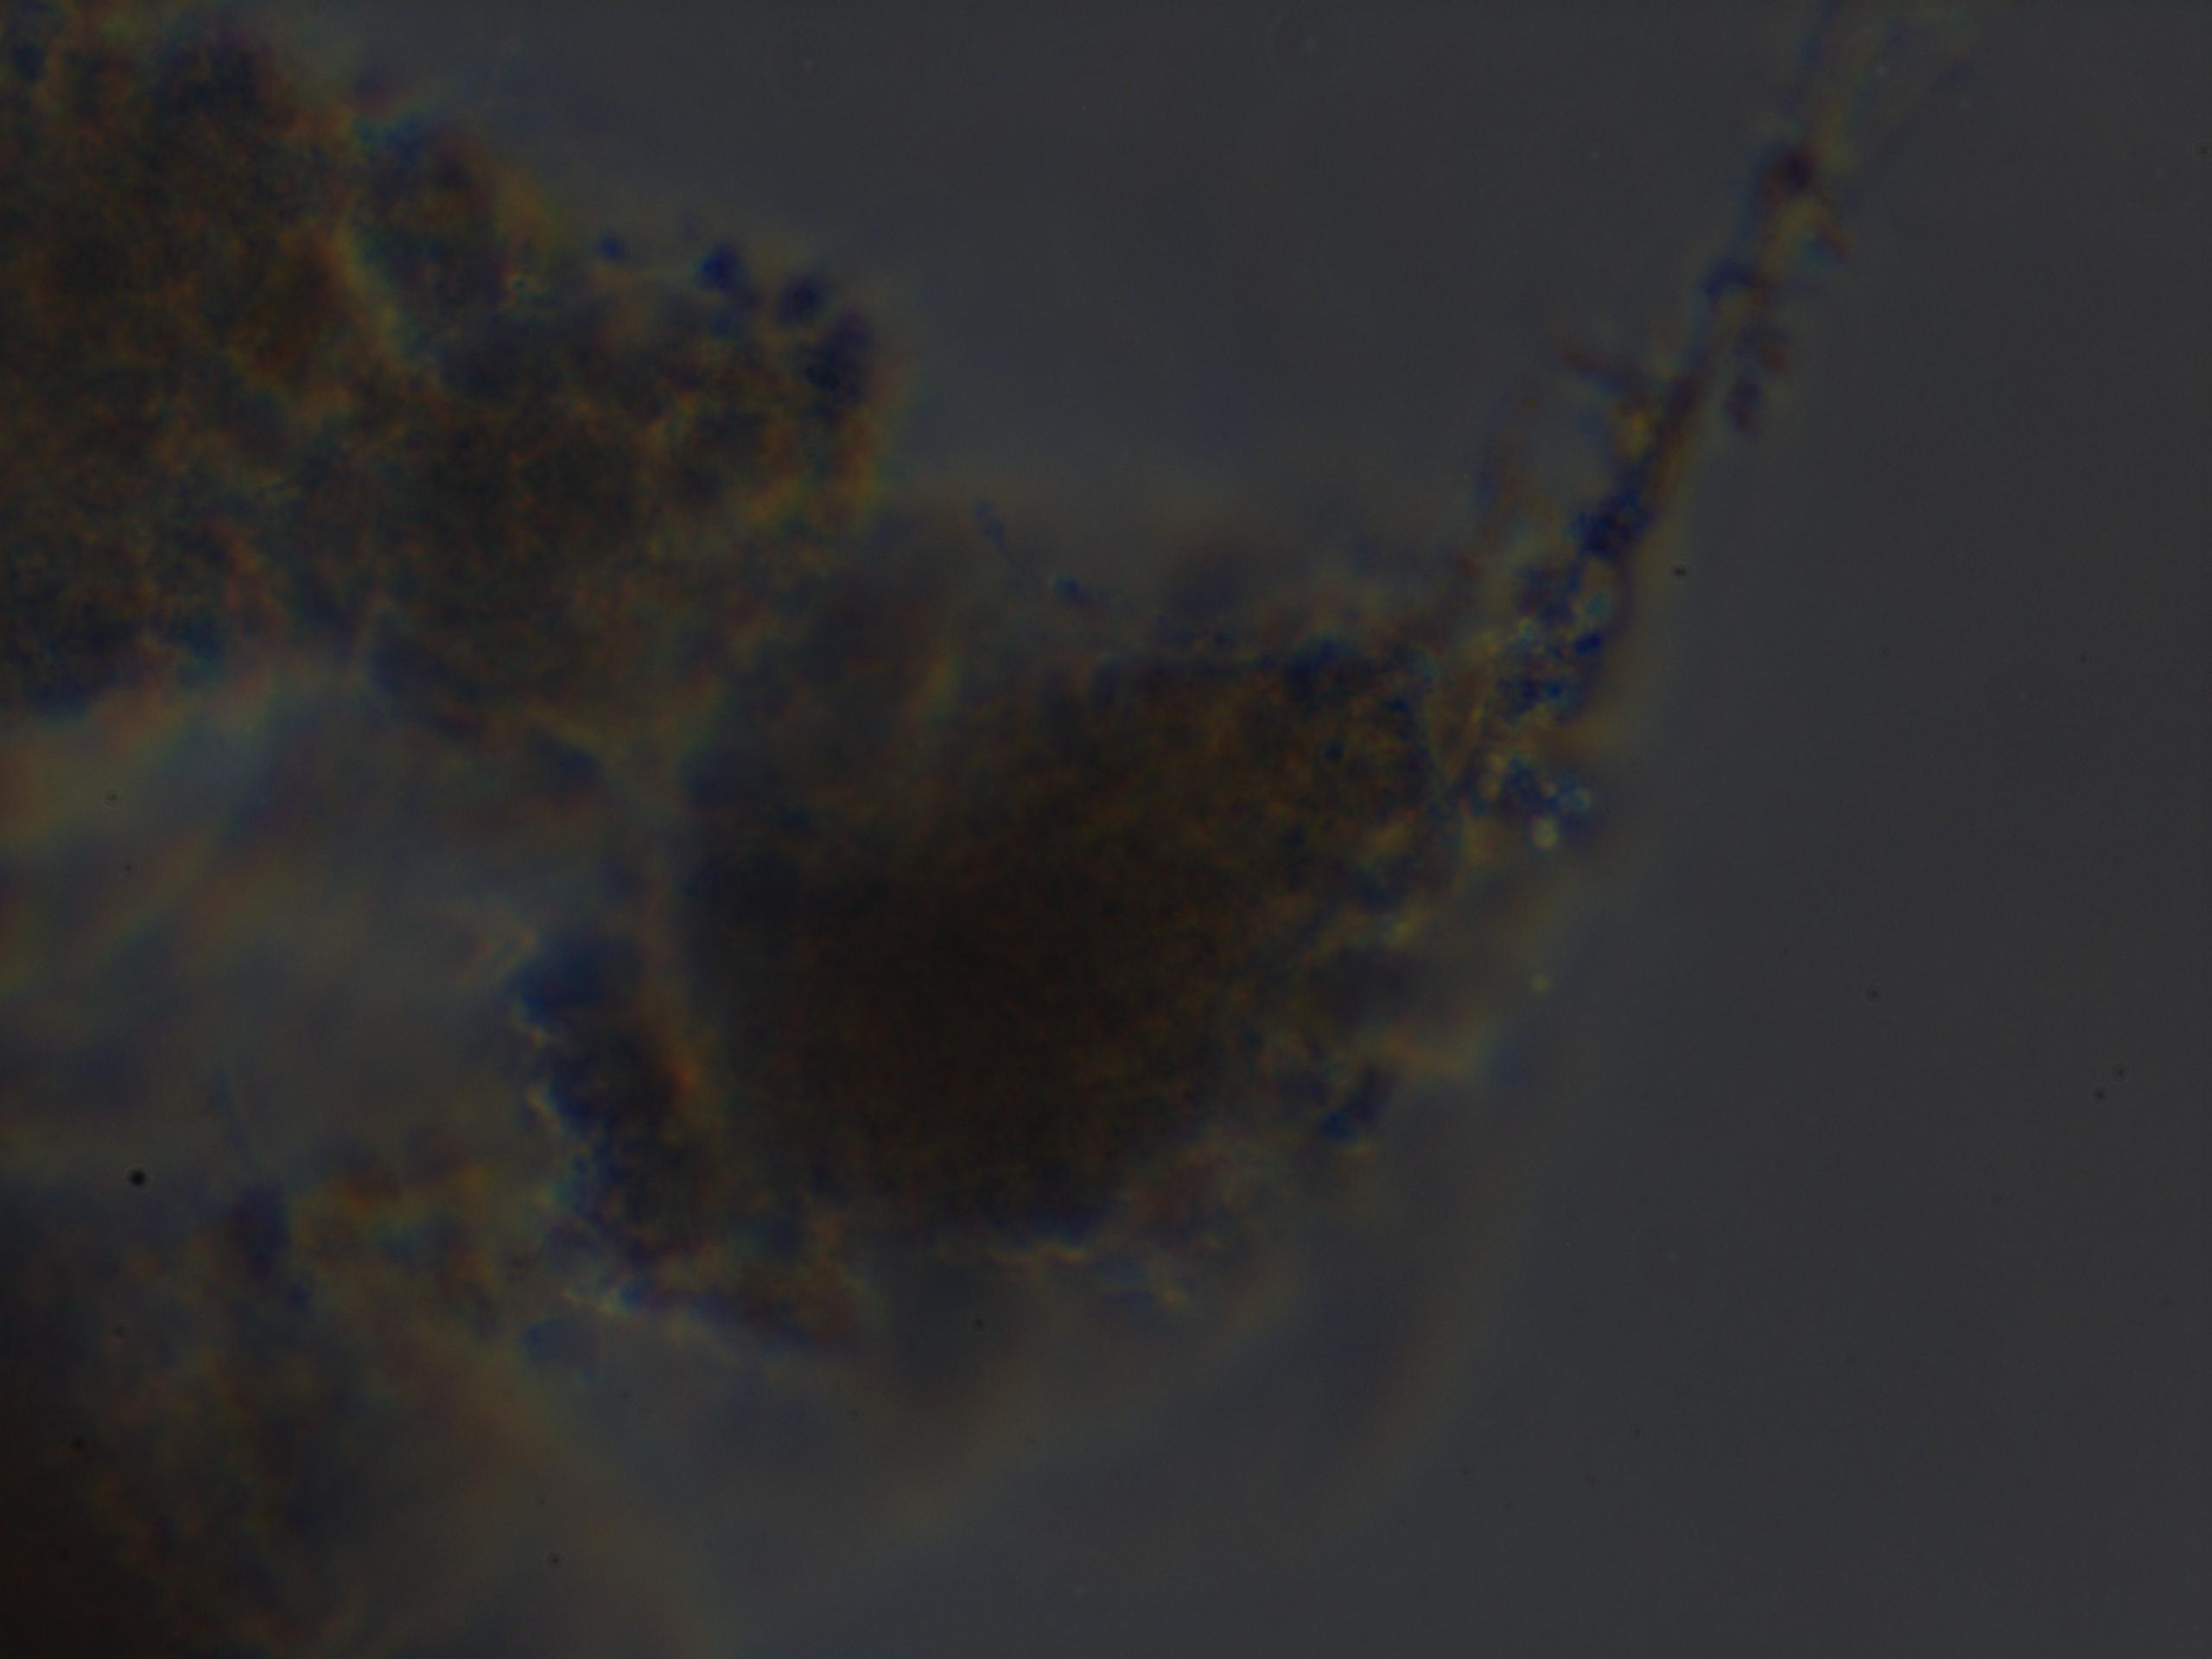filament: (1475, 0, 1949, 868)
